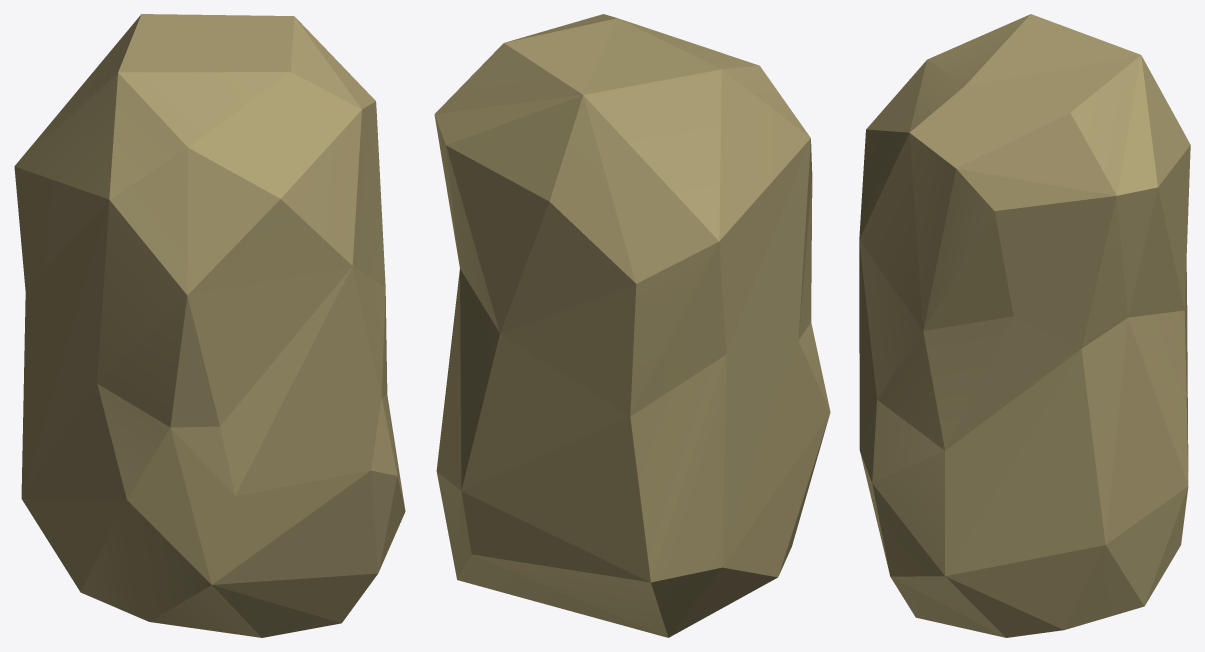
Rendered from SM_small_rock_39.fbx.
3 views of the same model, side by side, from view 1: azimuth 30°, elevation 25°; view 2: azimuth 150°, elevation 25°; view 3: azimuth 270°, elevation 25° (orthographic). The views are drawn at different scales.
Parts seen in each view (by area): view 1: small_rock_39; view 2: small_rock_39; view 3: small_rock_39.
Part boxes in pixels (x1,y1,x2,y2): small_rock_39: (14,14,405,637); small_rock_39: (434,14,830,637); small_rock_39: (859,14,1190,637).
Size of the model in its own units: 68.78 by 122 by 69.27.
